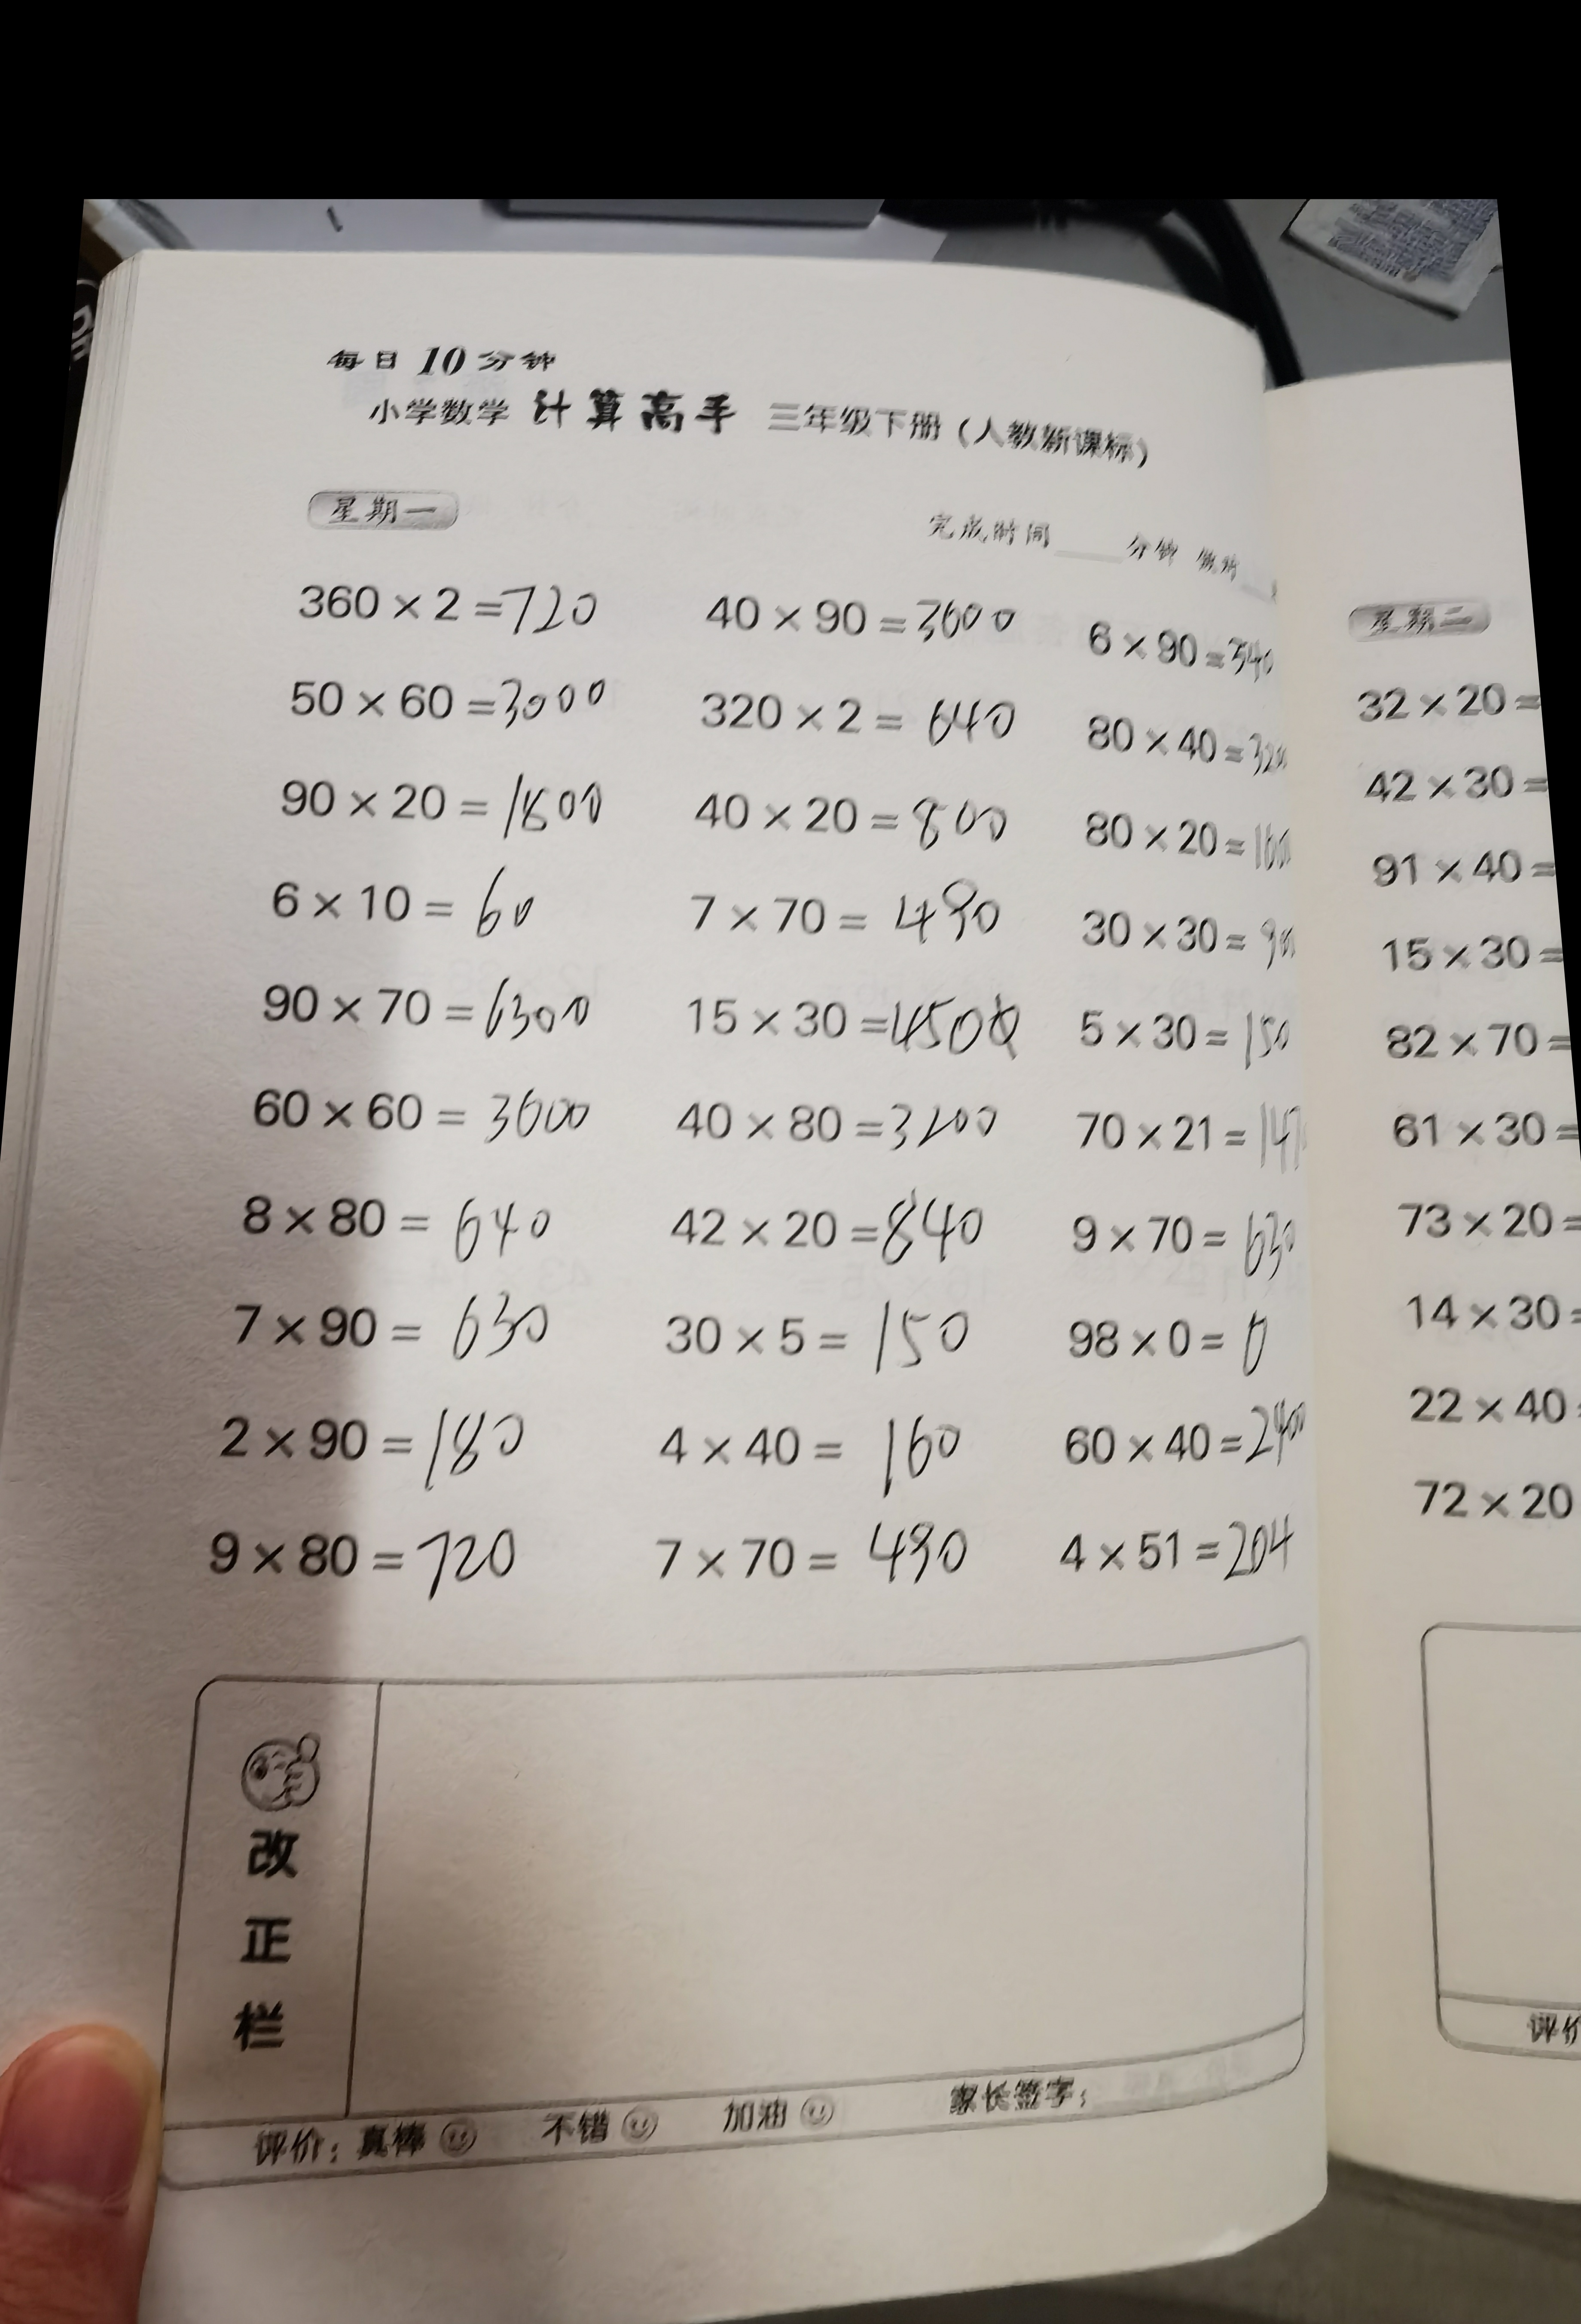equation: (591, 1507, 1034, 1611), (176, 1271, 591, 1378), (653, 856, 1015, 965), (217, 962, 602, 1062), (242, 753, 632, 852), (187, 1394, 552, 1498), (229, 859, 589, 962), (581, 1405, 997, 1491), (676, 978, 1039, 1076), (270, 556, 614, 653), (635, 1293, 985, 1389), (224, 1071, 598, 1156), (228, 1184, 577, 1274), (194, 1518, 540, 1608), (678, 672, 1036, 759), (655, 1089, 1020, 1173), (678, 769, 1046, 851), (1043, 1001, 1332, 1101), (641, 1196, 999, 1278), (261, 662, 637, 738), (1073, 589, 1295, 708), (1057, 1094, 1359, 1179), (1038, 1503, 1306, 1597), (709, 581, 1032, 656), (1075, 1198, 1343, 1288), (1053, 1408, 1336, 1482), (1060, 900, 1320, 976), (1036, 1304, 1295, 1380), (1076, 803, 1308, 881), (1078, 709, 1297, 791)
